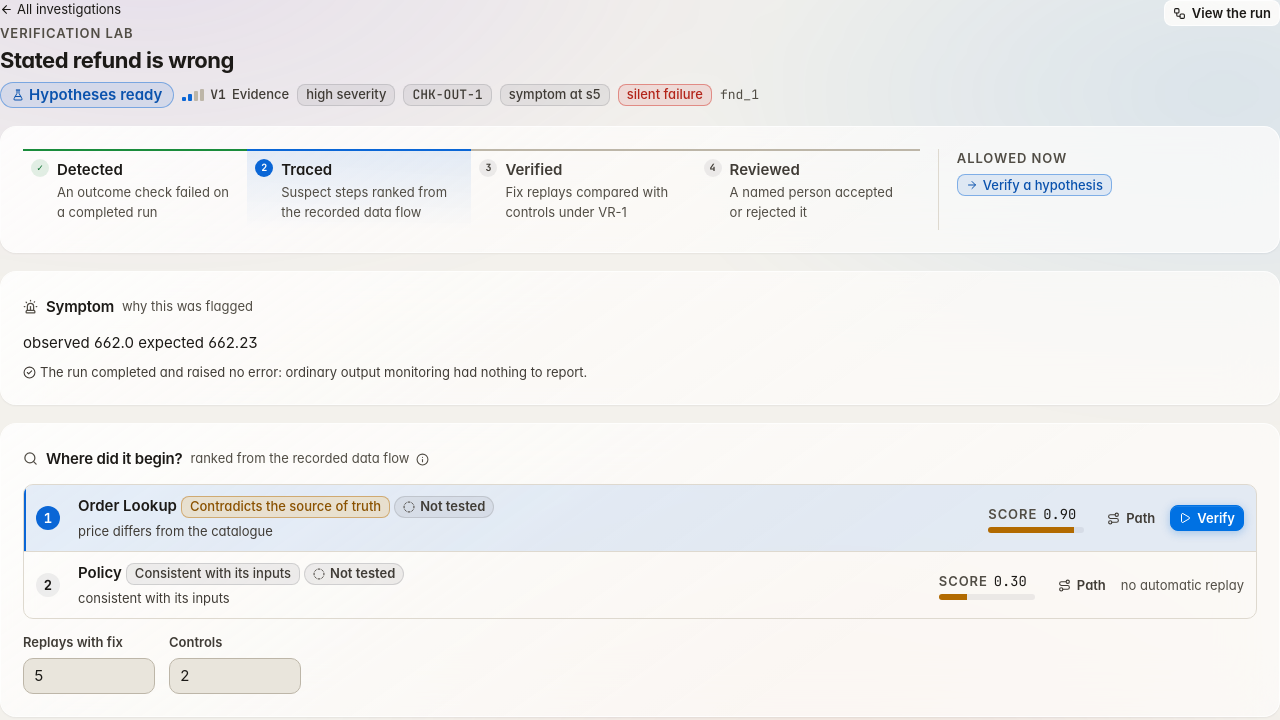
Test: FindingDetail › runs a verification, shows progress and then reloads the finding
Click the button "Verify".
click(1207, 518)  # box [1170,505,1244,531]
(page scrolled)
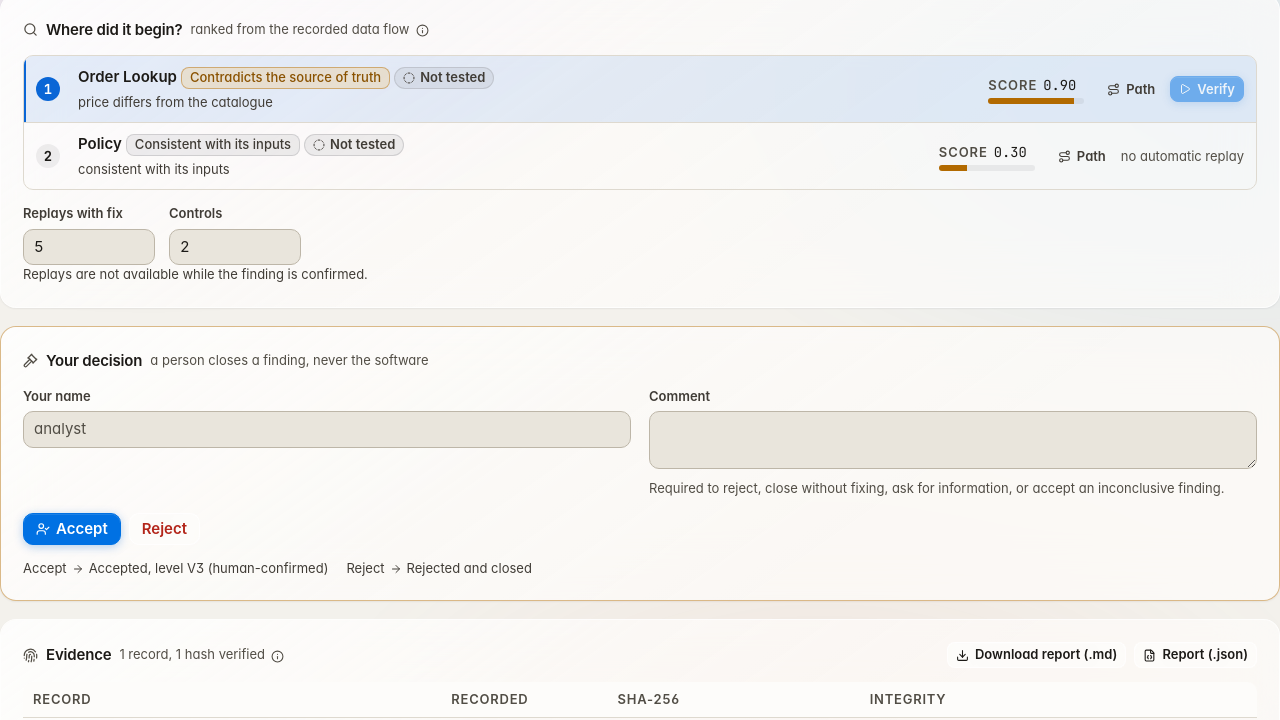
Now the heading "Your decision" is shown, box [46,351,142,371]
